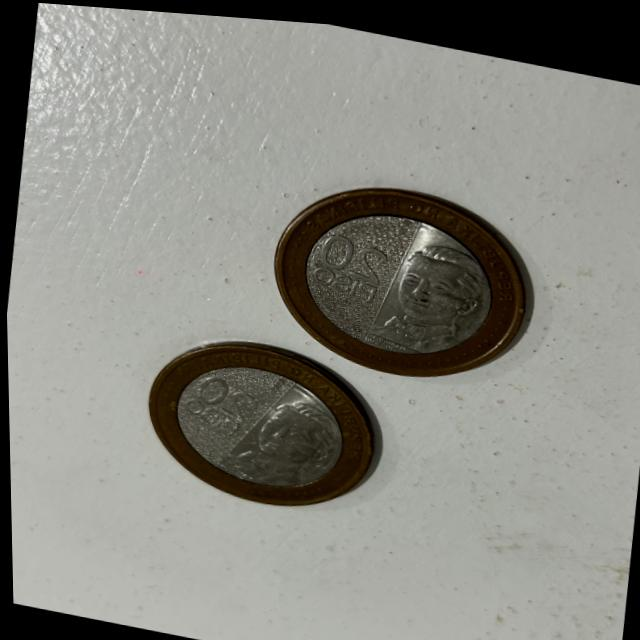20_New_Front: (174, 362, 270, 437), (303, 225, 392, 302)
